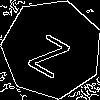Z: (26, 24, 77, 80)
